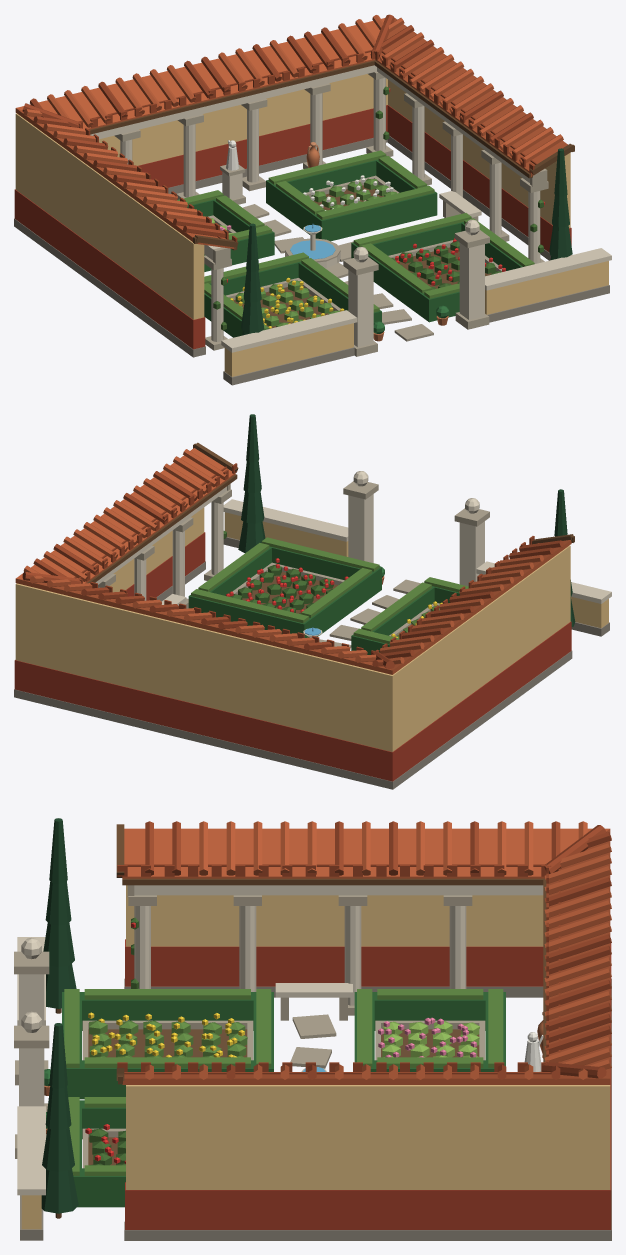
Rendered from Saeulengarten.fbx.
3 views of the same model, one above another, from view 1: azimuth 30°, elevation 25°; view 2: azimuth 150°, elevation 25°; view 3: azimuth 270°, elevation 25° (orthographic). The views are drawn at different scales.
Parts seen in each view (by area): view 1: Saeulengarten_0; view 2: Saeulengarten_0; view 3: Saeulengarten_0.
Boxes of the visible parts, x1,y1,x2,y2 form: Saeulengarten_0: (14,14,611,385); Saeulengarten_0: (14,414,611,789); Saeulengarten_0: (14,818,611,1240).
Bounding box in the file's own units: 3.55 × 1.26 × 3.56.
